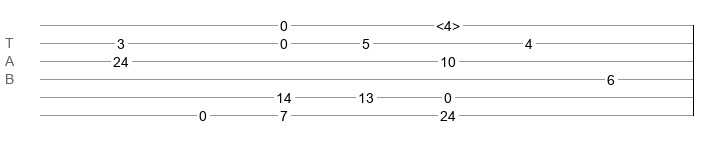0: (199, 108, 207, 118), (280, 36, 288, 46), (280, 18, 288, 28), (444, 90, 452, 100)
10: (440, 54, 456, 64)
13: (358, 90, 374, 100)
14: (276, 90, 292, 100)
24: (113, 54, 129, 64), (440, 108, 456, 118)
3: (117, 36, 125, 46)
4: (525, 36, 533, 46)
5: (362, 36, 370, 46)
6: (607, 72, 615, 82)
7: (280, 108, 288, 118)
harmonic: (436, 18, 460, 28)
